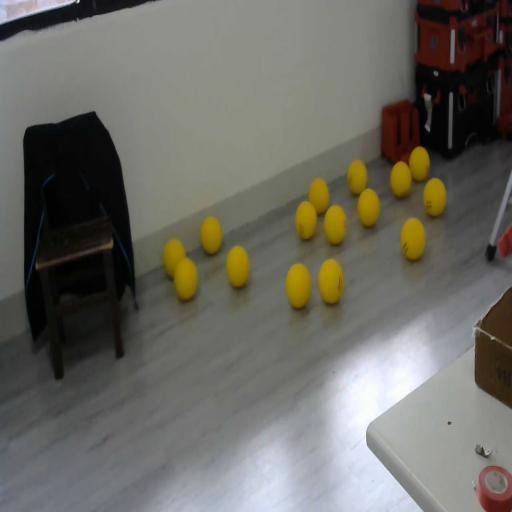FUEL: (285, 262, 312, 310), (318, 257, 344, 305), (172, 256, 199, 302), (225, 243, 251, 289), (400, 218, 426, 261), (423, 177, 447, 217), (357, 187, 380, 228), (324, 204, 347, 244), (200, 216, 223, 256), (295, 200, 317, 240), (346, 158, 368, 196), (308, 178, 330, 215), (390, 161, 412, 198), (409, 146, 430, 181)
